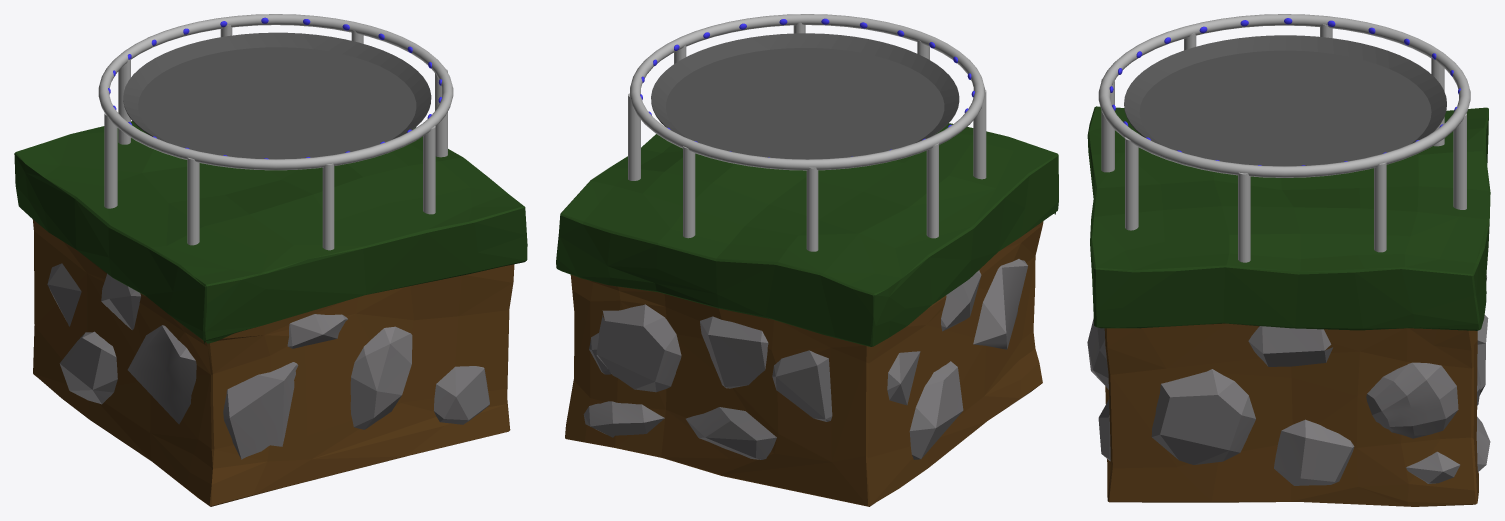
The model's file is tile_trampolin.gltf.
3 renders of one model, left to right at view 1: azimuth 30°, elevation 25°; view 2: azimuth 150°, elevation 25°; view 3: azimuth 270°, elevation 25°, orthographic. The views are drawn at different scales.
Visible parts, largest first — view 1: hill.003, Torus; view 2: hill.003, Torus; view 3: hill.003, Torus.
Boxes of the visible parts, box(x1,y1,x2,y2) form: hill.003: box(14, 121, 527, 506); Torus: box(98, 14, 453, 250); hill.003: box(556, 123, 1058, 506); Torus: box(628, 14, 986, 251); hill.003: box(1087, 106, 1490, 506); Torus: box(1098, 14, 1470, 262).
Size of the model in its own units: 1.1 by 1.03 by 1.09.
